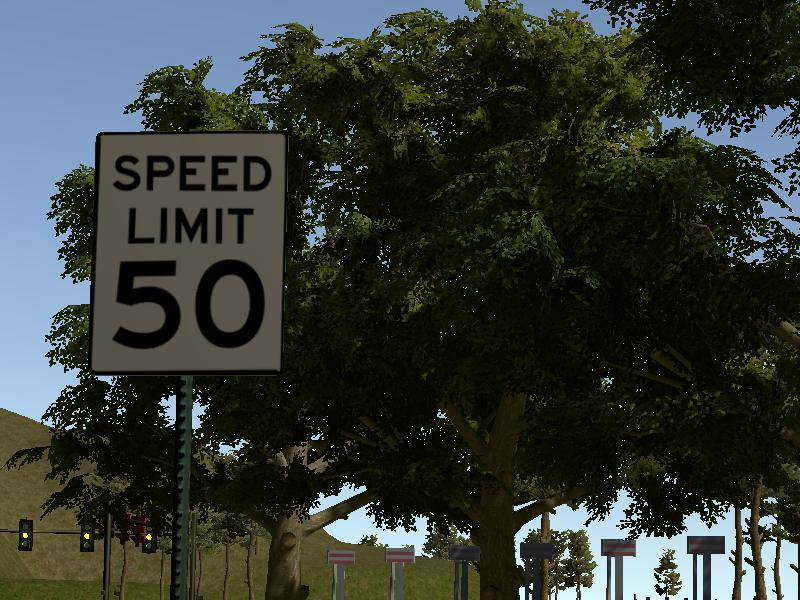Yellow: (18, 517, 33, 551), (79, 523, 93, 552)
